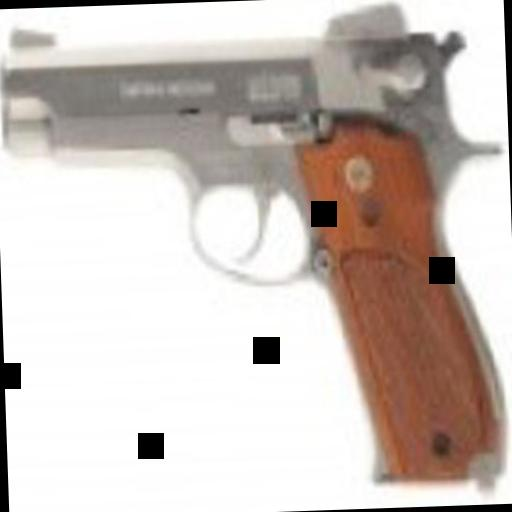Handgun: (6, 0, 503, 497)
